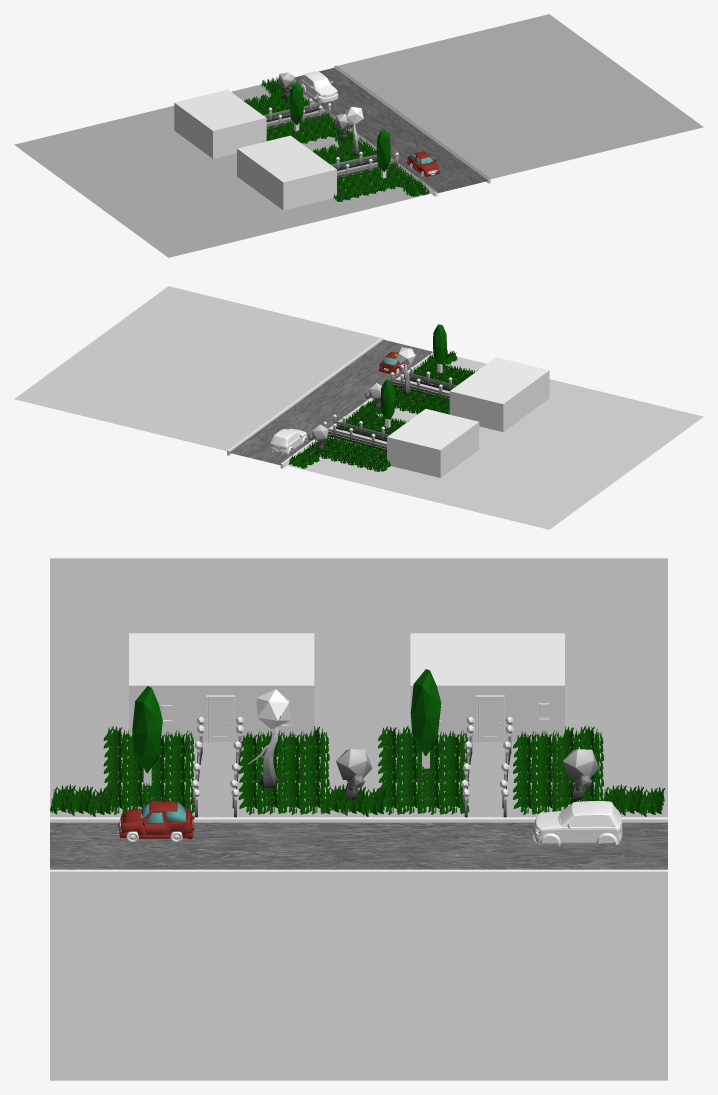
File: Module_4_SM.FBX
3 renders of one model, top to bottom at view 1: azimuth 30°, elevation 25°; view 2: azimuth 150°, elevation 25°; view 3: azimuth 270°, elevation 25°, orthographic. The views are drawn at different scales.
Parts seen in each view (by area): view 1: Module_4_SMBad_LOD0; view 2: Module_4_SMBad_LOD0; view 3: Module_4_SMBad_LOD0.
Boxes of the visible parts, left/top/right/bottom form: Module_4_SMBad_LOD0: left=14, top=14, right=703, bottom=257; Module_4_SMBad_LOD0: left=14, top=286, right=703, bottom=529; Module_4_SMBad_LOD0: left=50, top=558, right=667, bottom=1080.
Size of the model in its own units: 10000 by 5000 by 1007.
